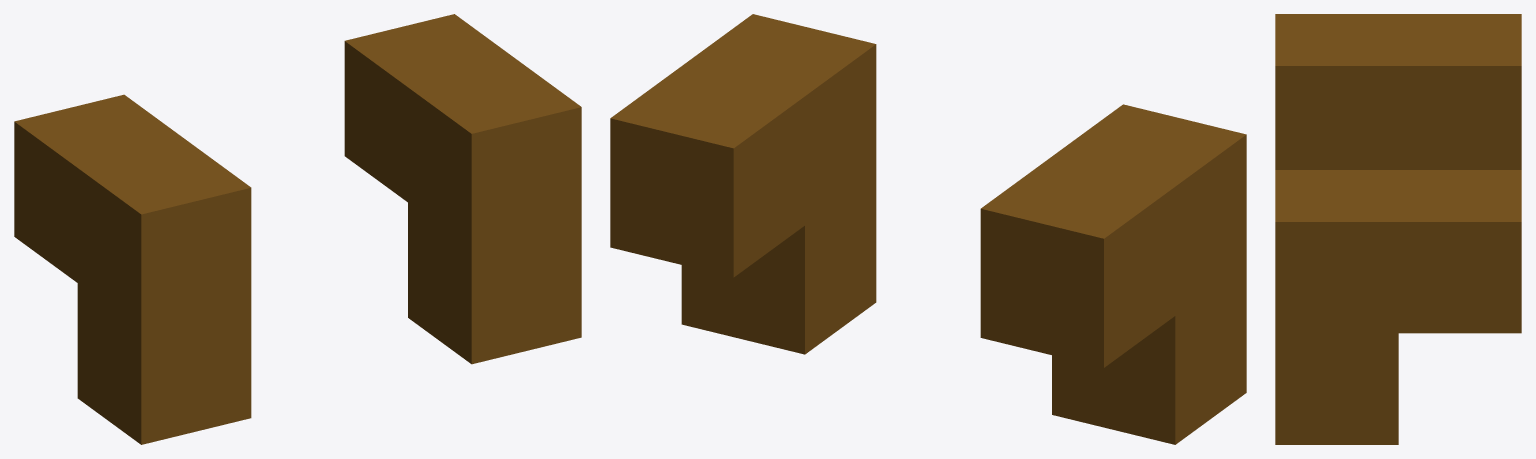
The model's file is humanoid-270-beard_chops_long.obj.
3 renders of one model, left to right at view 1: azimuth 30°, elevation 25°; view 2: azimuth 150°, elevation 25°; view 3: azimuth 270°, elevation 25°, orthographic. The views are drawn at different scales.
Visible parts, largest first — view 1: beard_chops_long; view 2: beard_chops_long; view 3: beard_chops_long.
Boxes of the visible parts, x1,y1,x2,y2 form: beard_chops_long: (14, 14, 581, 444); beard_chops_long: (610, 14, 1246, 444); beard_chops_long: (1275, 14, 1521, 444).
Size of the model in its own units: 0.4 by 0.2 by 0.2.
1 material, 1 textured.
